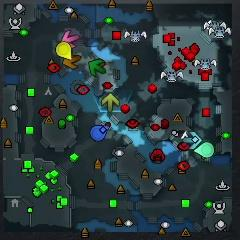p1: (91, 126, 109, 141)
p2: (194, 142, 216, 157)
p4: (56, 42, 72, 60)
x1: (62, 30, 80, 48)
x2: (101, 93, 120, 112)
x3: (184, 132, 202, 150)
x4: (89, 59, 106, 77)
x5: (62, 55, 81, 69)
